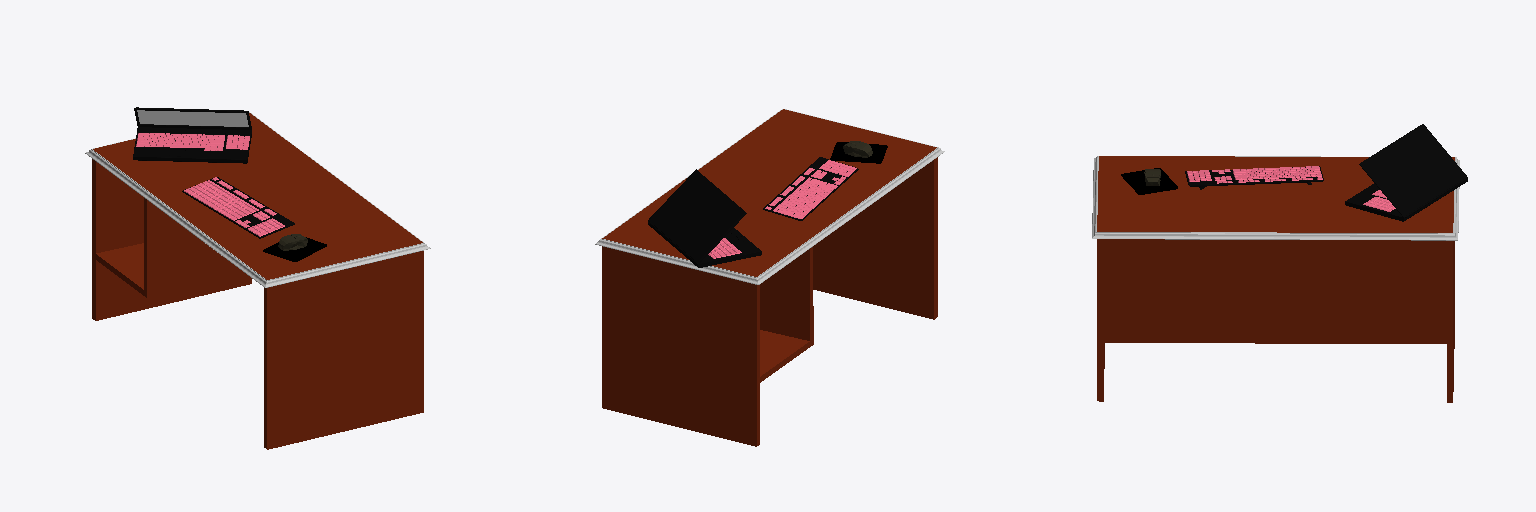
File: desk.obj
3 renders of one model, left to right at view 1: azimuth 30°, elevation 25°; view 2: azimuth 150°, elevation 25°; view 3: azimuth 270°, elevation 25°, orthographic.
Visible parts, largest first — view 1: 7.002, 7, 7.001, 7.005, 7.008, 7.009, 7.004; view 2: 7.002, 7, 7.001, 7.005, 7.009, 7.004; view 3: 7.002, 7, 7.001, 7.005, 7.004, 7.009.
Boxes of the visible parts, x1,y1,x2,y2 form: 7.002: [92, 113, 423, 449]; 7: [133, 107, 251, 163]; 7.001: [85, 112, 430, 287]; 7.005: [184, 177, 284, 236]; 7.008: [136, 133, 249, 150]; 7.009: [182, 177, 294, 238]; 7.004: [263, 237, 326, 261]; 7.002: [602, 109, 937, 446]; 7: [648, 169, 761, 267]; 7.001: [595, 109, 944, 284]; 7.005: [765, 160, 856, 218]; 7.009: [763, 157, 858, 220]; 7.004: [830, 142, 887, 163]; 7.002: [1097, 156, 1454, 402]; 7: [1345, 124, 1467, 221]; 7.001: [1092, 156, 1459, 240]; 7.005: [1187, 166, 1322, 183]; 7.004: [1121, 168, 1177, 194]; 7.009: [1185, 166, 1323, 189].
Size of the model in its own units: 1.17 by 1.44 by 2.27.